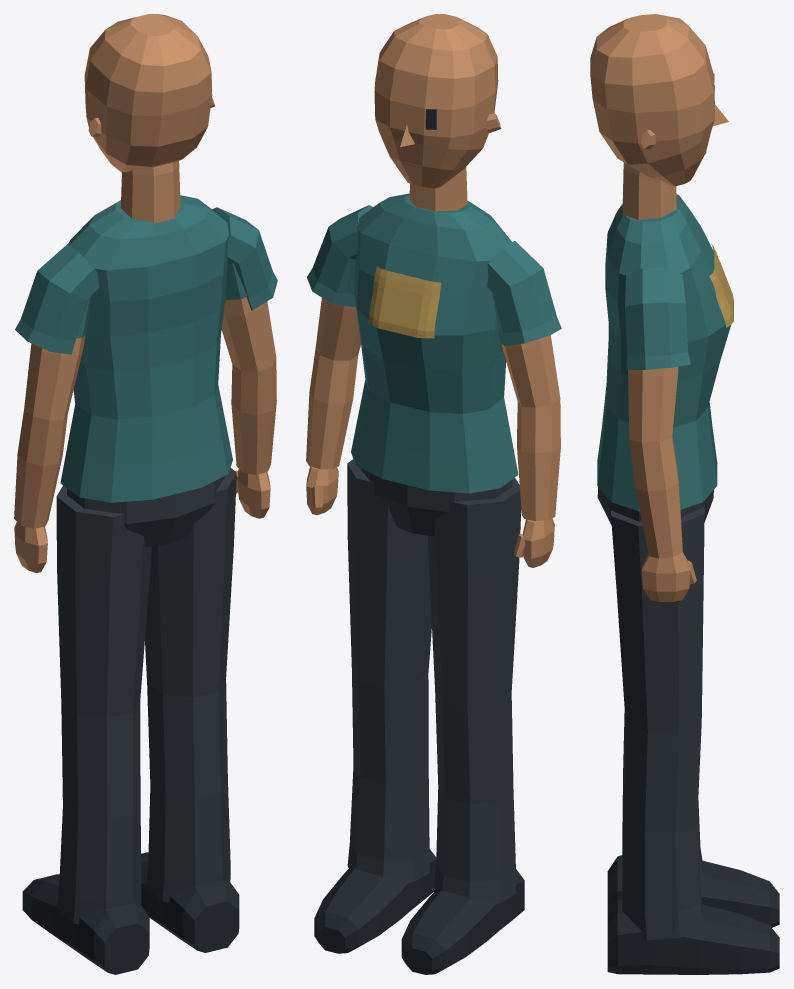
File: lwf_attendee_female_relaxed_v2.glb
3 views of the same model, side by side, from view 1: azimuth 30°, elevation 25°; view 2: azimuth 150°, elevation 25°; view 3: azimuth 270°, elevation 25° (orthographic). The views are drawn at different scales.
Visible parts, largest first — view 1: Attendee_female_relaxed_v6; view 2: Attendee_female_relaxed_v6; view 3: Attendee_female_relaxed_v6.
Boxes of the visible parts, x1,y1,x2,y2 form: Attendee_female_relaxed_v6: (14,14,277,974); Attendee_female_relaxed_v6: (306,14,561,974); Attendee_female_relaxed_v6: (590,14,779,974).
Size of the model in its own units: 0.4694 by 1.66 by 0.3077.
Materials: 1 (1 with a texture image).
